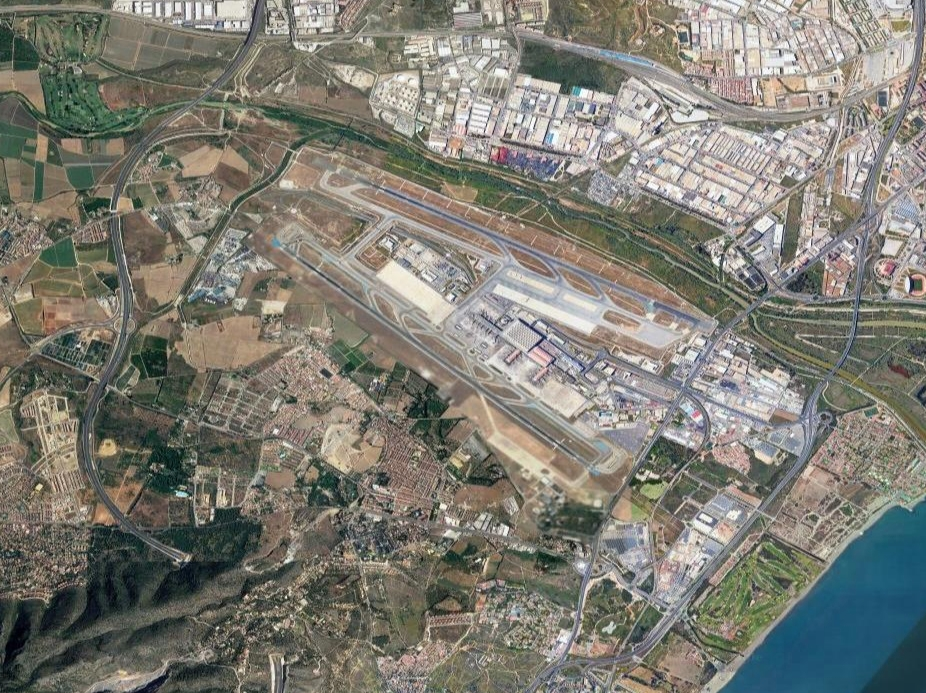airport: (262, 151, 719, 477)
motorway: (93, 493, 188, 564), (122, 104, 186, 159), (181, 54, 245, 109), (74, 347, 127, 413), (106, 242, 138, 348), (720, 98, 841, 126), (71, 412, 109, 495), (100, 159, 137, 243), (648, 66, 719, 108), (568, 551, 600, 634), (110, 11, 207, 38), (796, 373, 834, 441), (826, 306, 864, 374), (523, 646, 577, 693), (638, 599, 684, 651), (683, 549, 729, 601), (726, 495, 772, 547), (765, 443, 811, 495), (507, 24, 580, 56), (579, 41, 652, 73), (865, 116, 902, 178), (889, 56, 926, 118), (1, 1, 111, 21), (229, 1, 267, 56), (841, 69, 892, 108), (580, 640, 641, 672), (844, 242, 874, 307), (851, 177, 881, 242), (207, 25, 306, 42), (306, 26, 405, 43), (405, 23, 504, 40), (905, 1, 926, 58)
